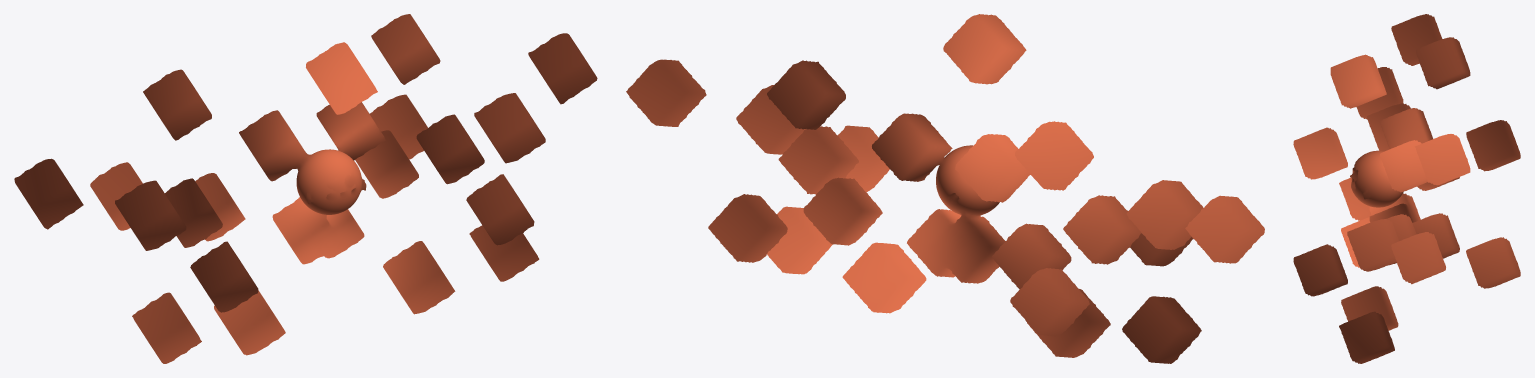
3 renders of one model, left to right at view 1: azimuth 30°, elevation 25°; view 2: azimuth 150°, elevation 25°; view 3: azimuth 270°, elevation 25°, orthographic. The views are drawn at different scales.
Parts seen in each view (by area): view 1: GDExample; view 2: GDExample; view 3: GDExample.
Part boxes in pixels (x1,y1,x2,y2): GDExample: (14, 14, 597, 363); GDExample: (626, 14, 1264, 363); GDExample: (1293, 14, 1520, 363).
Size of the model in its own units: 20.4 by 9.81 by 8.14.
